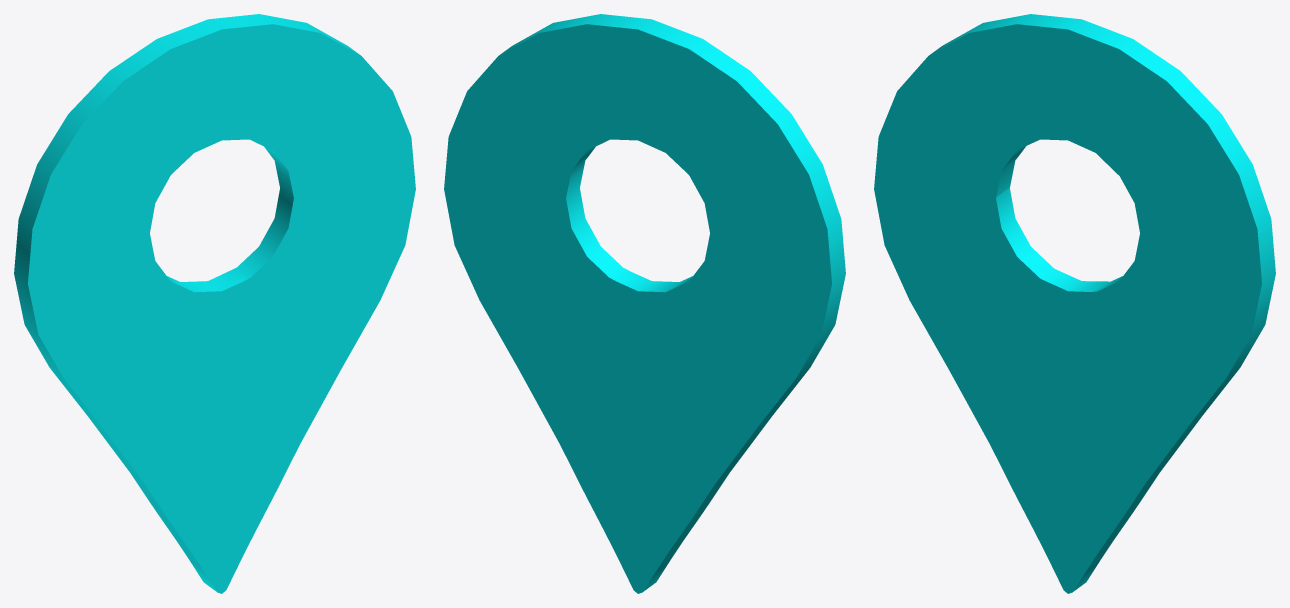
Rendered from icon.gltf.
The picture shows the model from 3 angles, left to right: view 1: azimuth 30°, elevation 25°; view 2: azimuth 150°, elevation 25°; view 3: azimuth 330°, elevation 25°; orthographic projection.
Visible parts, largest first — view 1: node_icon_-8938; view 2: node_icon_-8938; view 3: node_icon_-8938.
Part boxes in pixels (bbox=[...]): node_icon_-8938: bbox=[14, 14, 415, 593]; node_icon_-8938: bbox=[444, 14, 845, 593]; node_icon_-8938: bbox=[874, 14, 1275, 593].
Bounding box in the file's own units: 1.98 × 2.76 × 0.1228.
